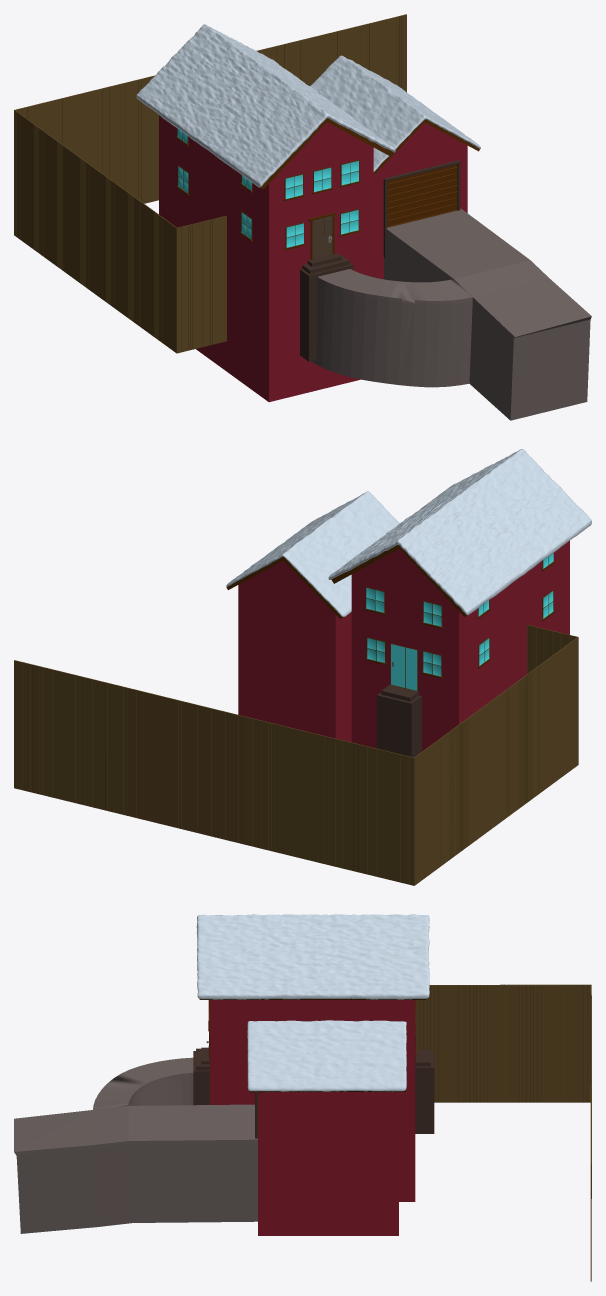
Rendered from stevenshouse_compressed.glb.
3 renders of one model, top to bottom at view 1: azimuth 30°, elevation 25°; view 2: azimuth 150°, elevation 25°; view 3: azimuth 270°, elevation 25°, orthographic. The views are drawn at different scales.
Parts seen in each view (by area): view 1: Cube.709, Cube.703, Cube.708, Cube.722, Cube.704, Cube.705, Cube.718; view 2: Cube.709, Cube.708, Cube.722, Cube.704, Cube.705; view 3: Cube.703, Cube.722, Cube.708, Cube.709, Cube.705, Cube.704.
Part boxes in pixels (box(x1,y1,x2,y2)): Cube.709: box(14, 14, 406, 353); Cube.703: box(311, 208, 591, 420); Cube.708: box(159, 115, 467, 402); Cube.722: box(136, 24, 480, 187); Cube.704: box(176, 118, 479, 259); Cube.705: box(300, 160, 460, 361); Cube.718: box(312, 215, 332, 258); Cube.709: box(14, 624, 578, 885); Cube.708: box(238, 541, 569, 751); Cube.722: box(226, 449, 591, 616); Cube.704: box(226, 545, 555, 691); Cube.705: box(376, 684, 421, 757); Cube.703: box(14, 1057, 257, 1233); Cube.722: box(196, 914, 429, 1091); Cube.708: box(210, 1000, 415, 1235); Cube.709: box(415, 984, 591, 1281); Cube.705: box(193, 1047, 434, 1138); Cube.704: box(199, 998, 426, 1092).
Bounding box in the file's own units: 4.37 × 2.99 × 5.94.
